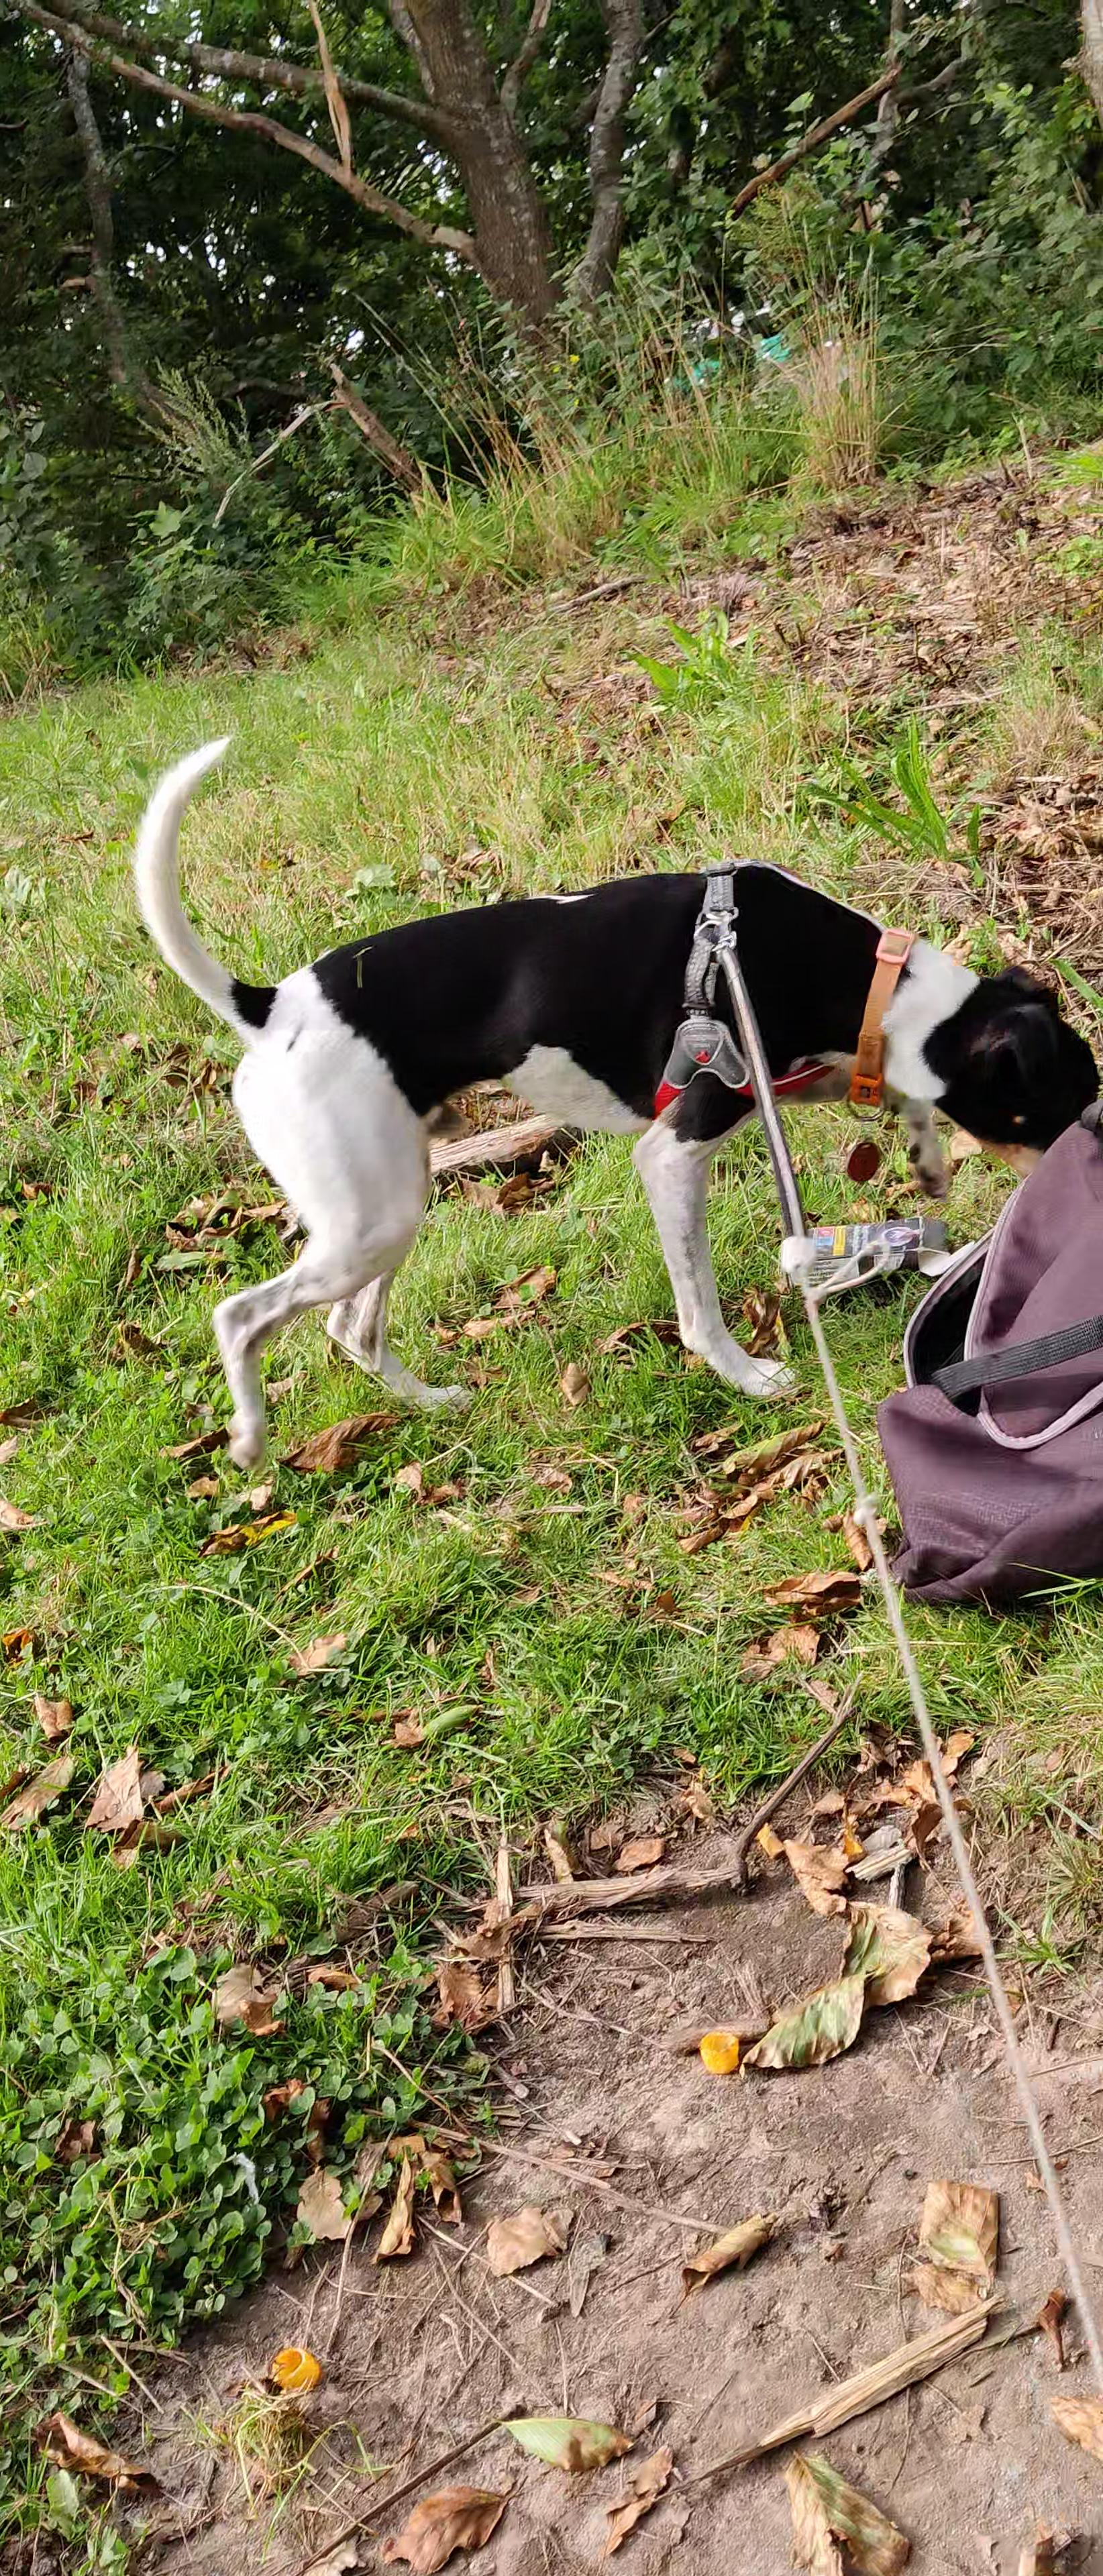Dog: (107, 721, 1098, 1482)
